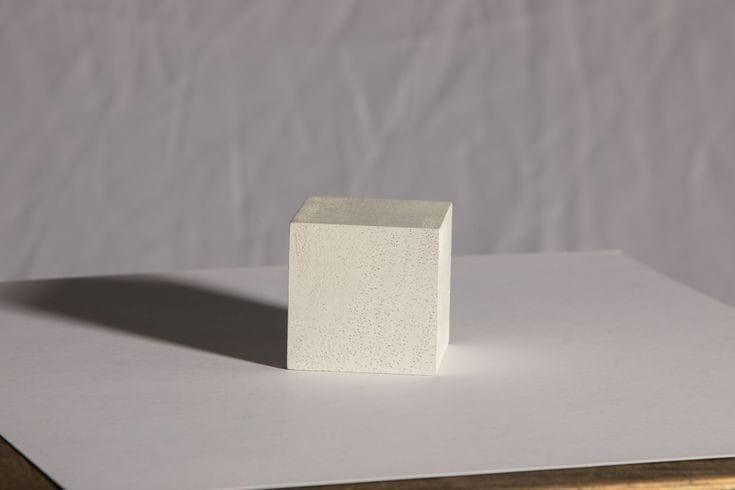cubos: (285, 186, 466, 388)
